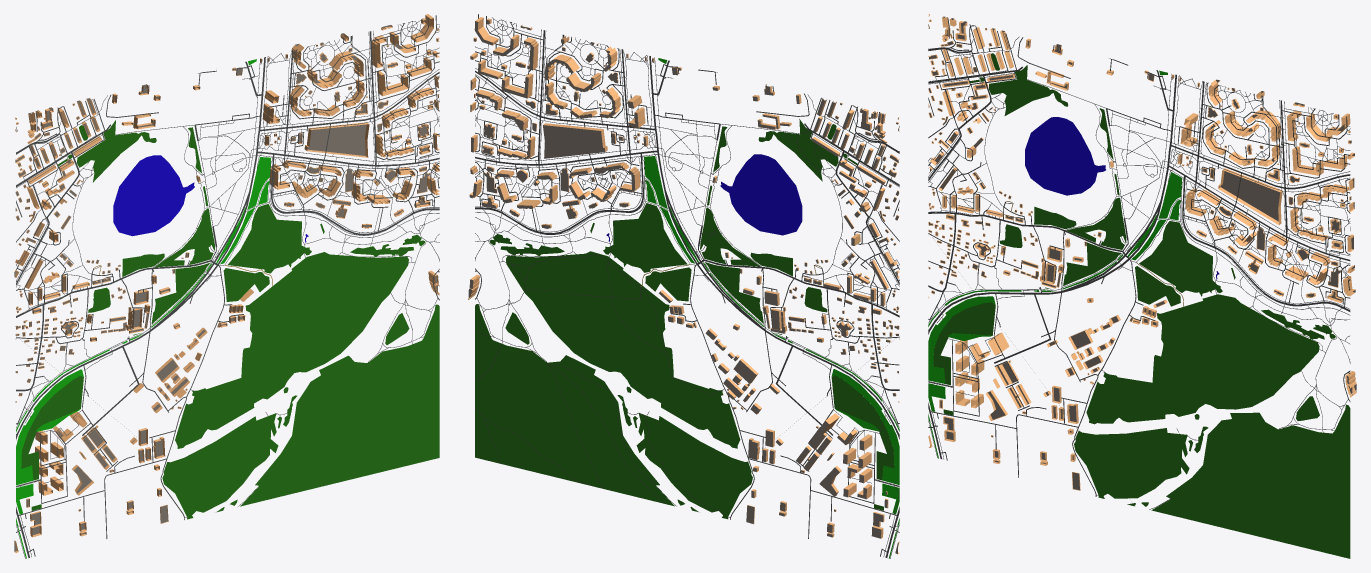
File: tile.011.fbx
The picture shows the model from 3 angles, left to right: view 1: azimuth 30°, elevation 25°; view 2: azimuth 150°, elevation 25°; view 3: azimuth 330°, elevation 25°; orthographic projection.
Visible parts, largest first — view 1: tile.011; view 2: tile.011; view 3: tile.011.
Part boxes in pixels (left/top/right/bottom): tile.011: left=14, top=14, right=439, bottom=558; tile.011: left=468, top=14, right=899, bottom=558; tile.011: left=928, top=14, right=1356, bottom=558.
Size of the model in its own units: 400 by 400 by 16.69.
